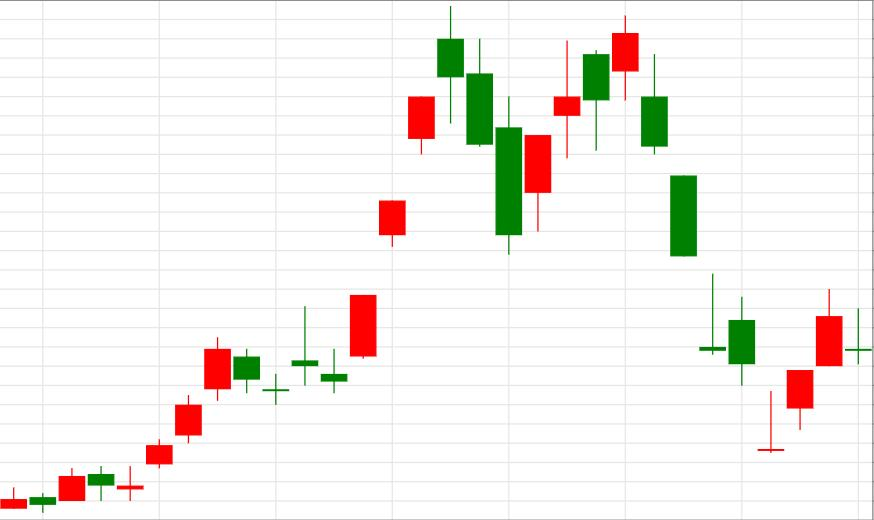three_black_crows_fall: (321, 4, 522, 392)
